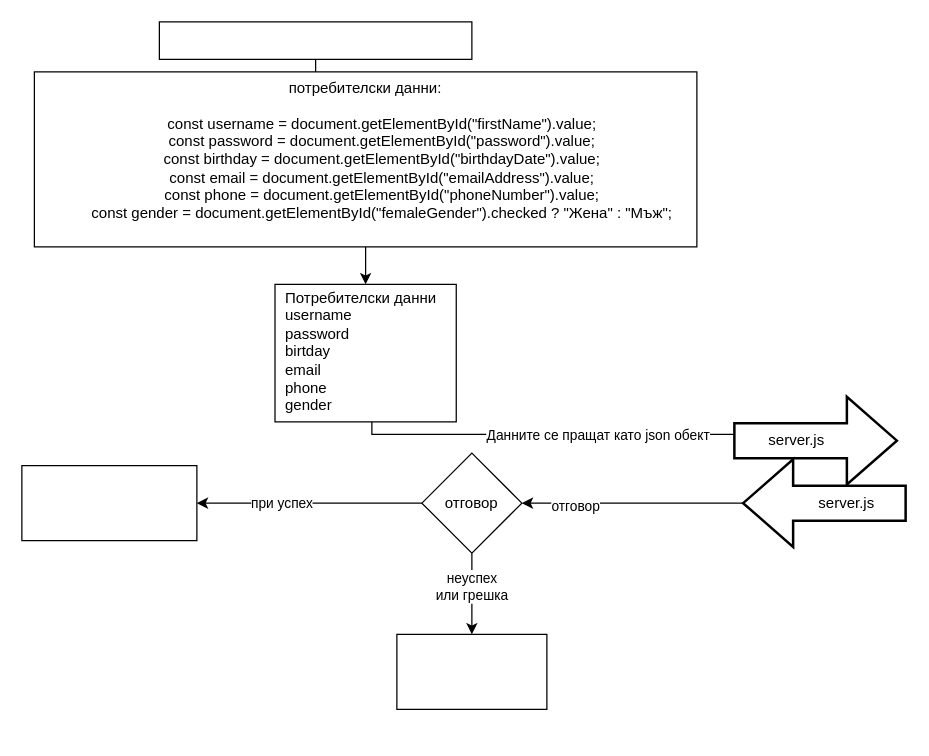
The diagram is 929 pixels wide and 756 high, and some of its shapes have lost their labels. Here are the shapes that lost their labels. From the top down, the centre of each, then its label:
At point (315, 40): "сайт за регистрация".
At point (109, 502): "пренасочване към страница за влизане".
At point (471, 671): "извежда грешката от отговора".
